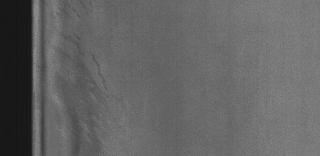water spot: (47, 2, 119, 154)
